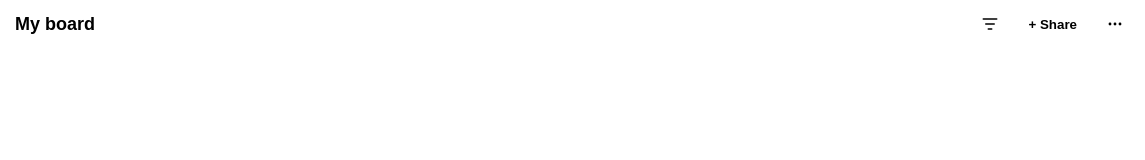
Scenario: components/BoardTopBar › toggles board menu on button click
Check: the button "delete board" is not shown
Click the button named "board menu". click: (1115, 24)
box: [1099, 8, 1131, 40]
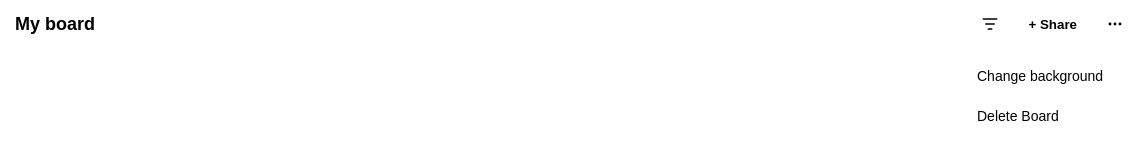
Check: the button "Delete Board" is shown, box [965, 98, 1125, 134]
Click the button named "board menu". click: (1115, 24)
box: [1099, 8, 1131, 40]
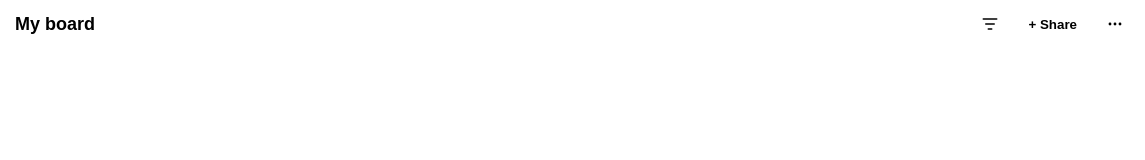
Check: the button "Delete Board" is gone
